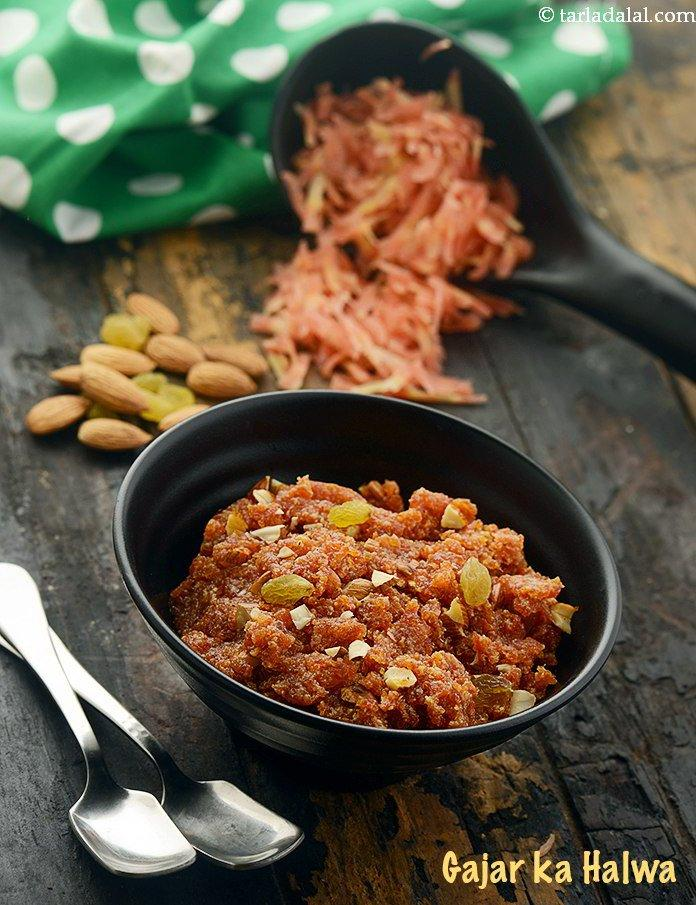Gajar ka halwa: (131, 389, 622, 746)
